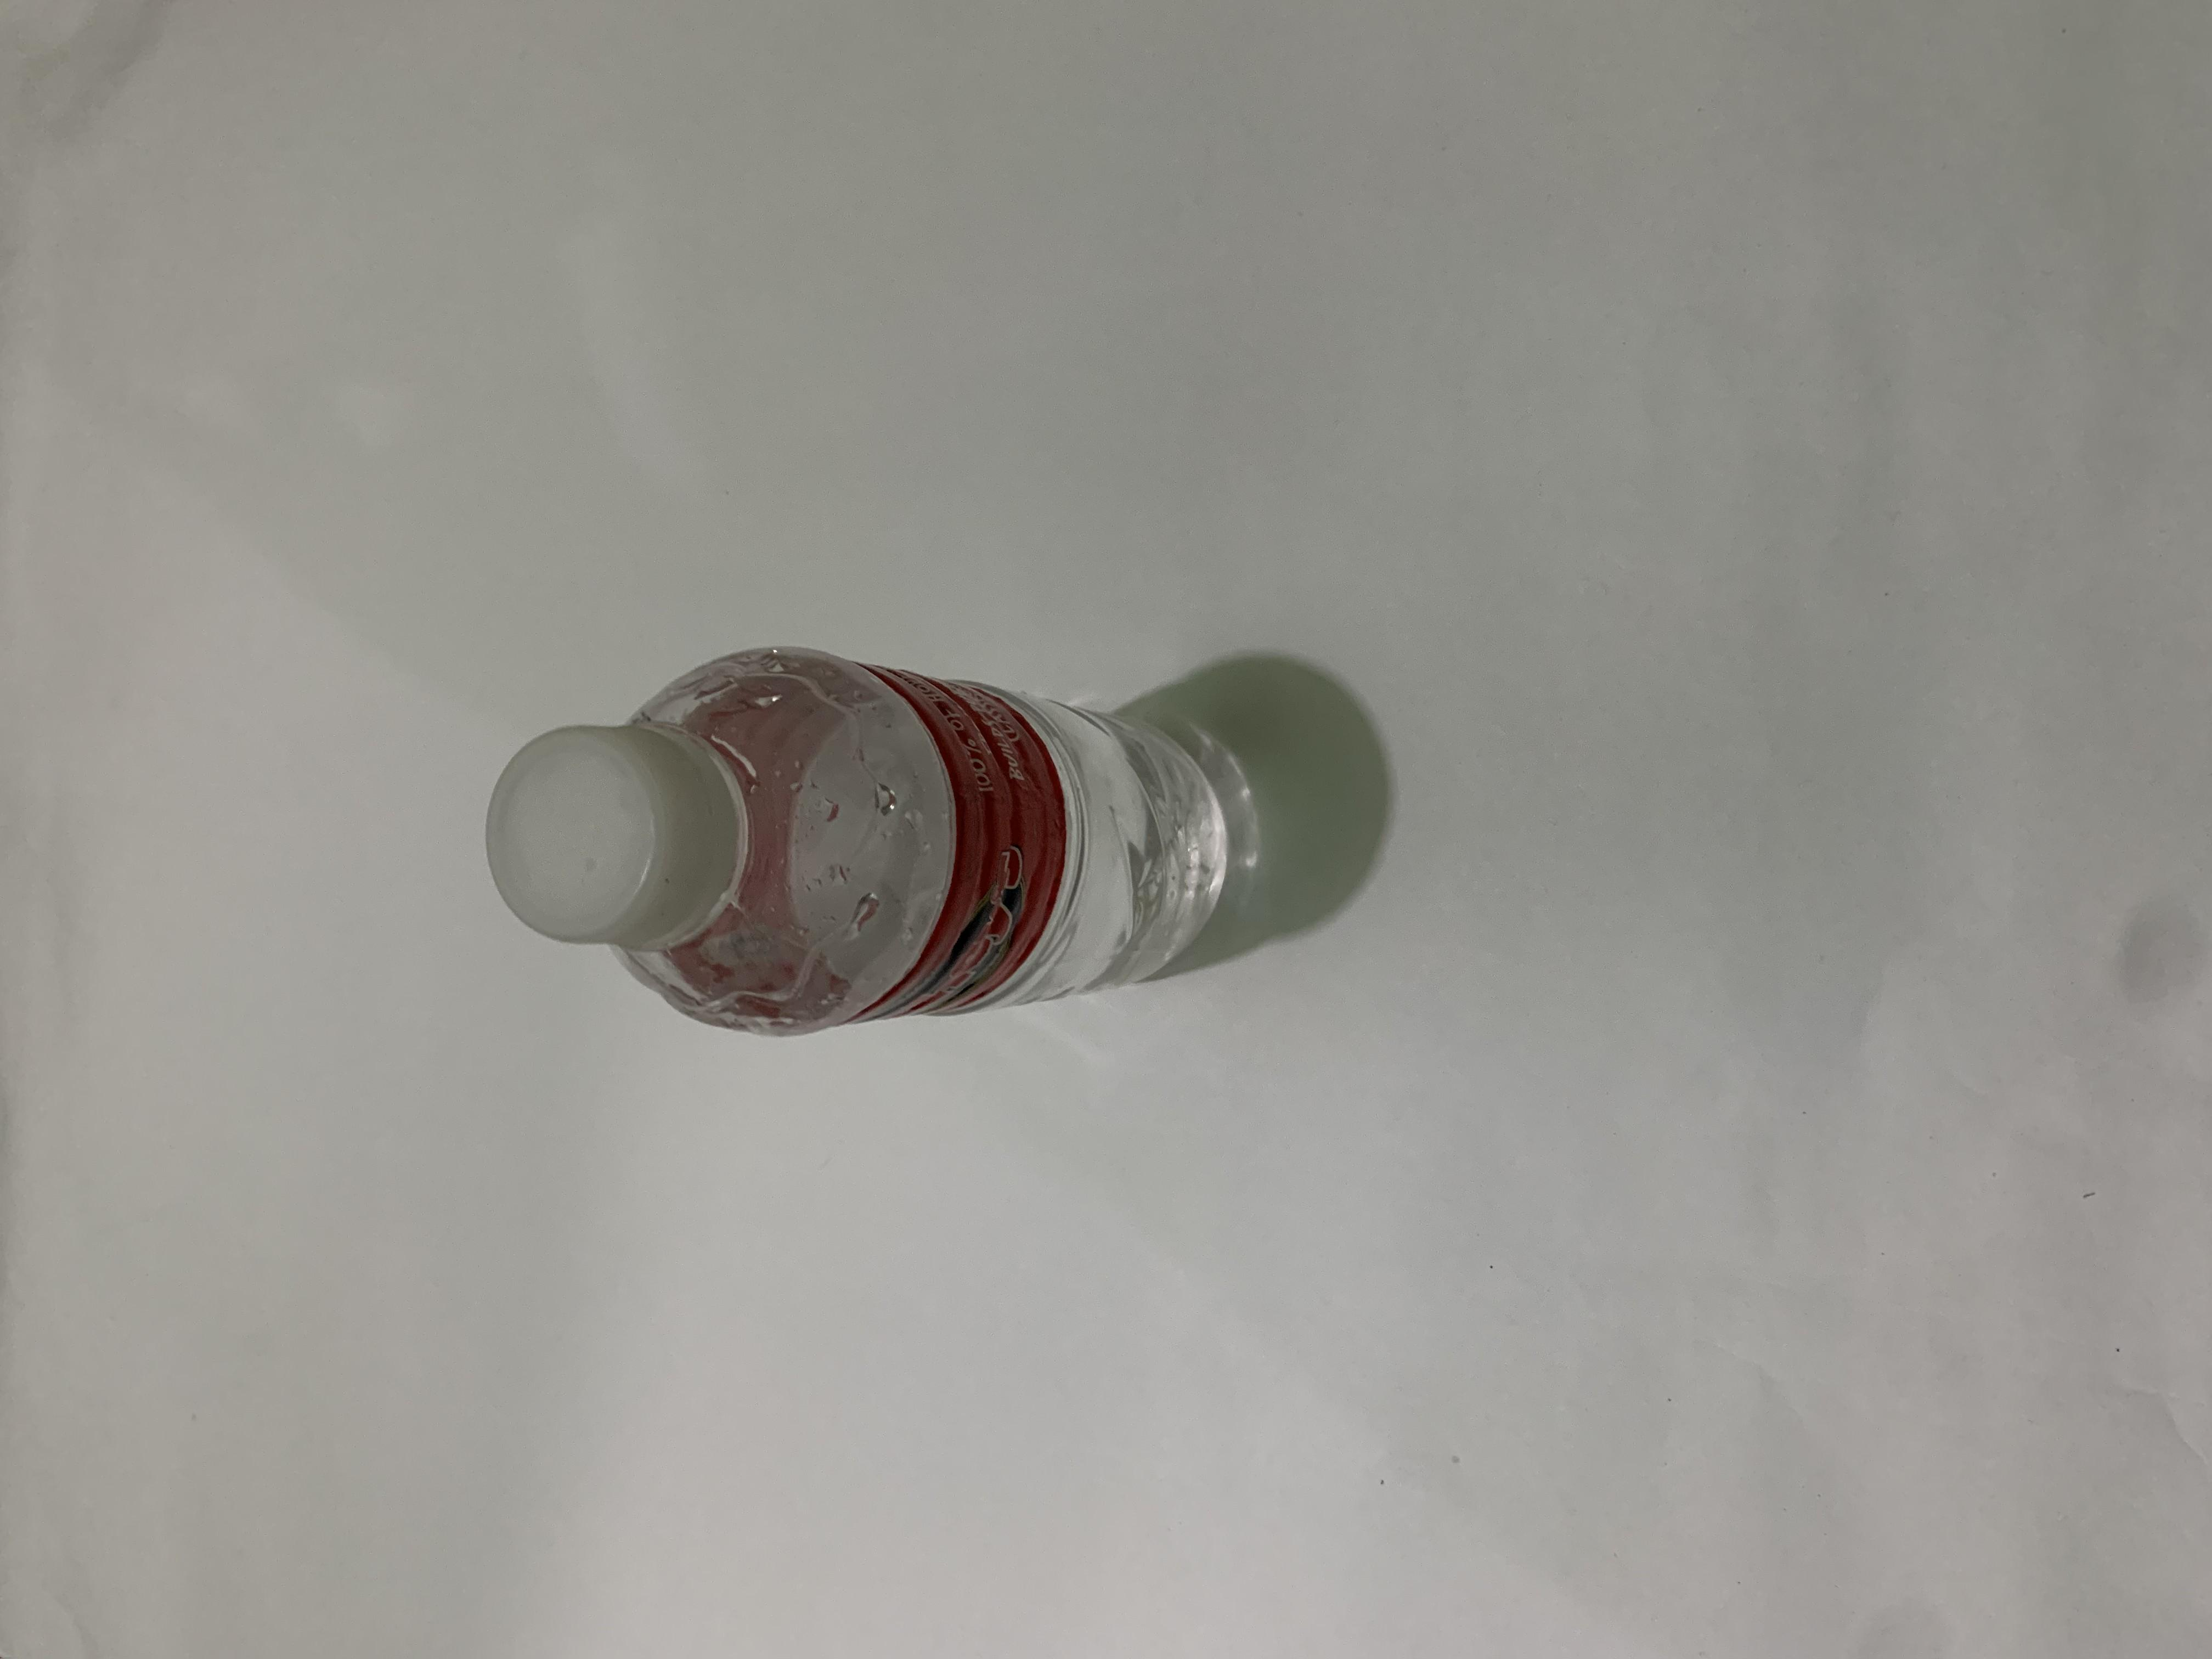bottle: (819, 357, 1360, 958)
